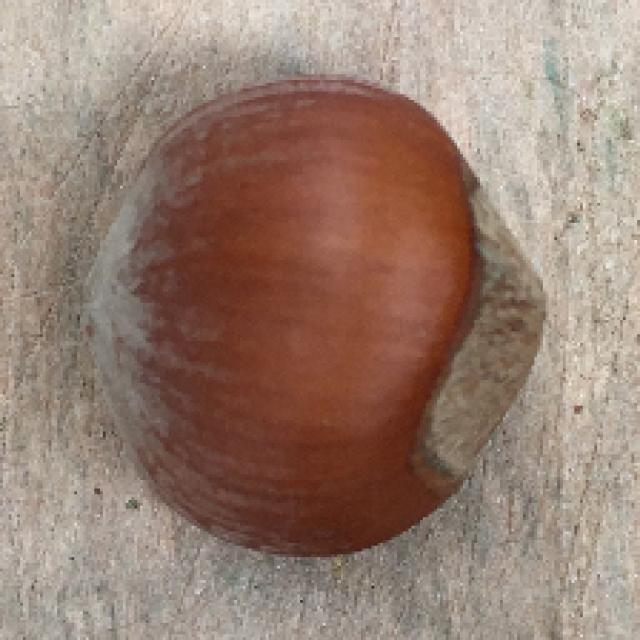hazelnut: (79, 79, 557, 556)
